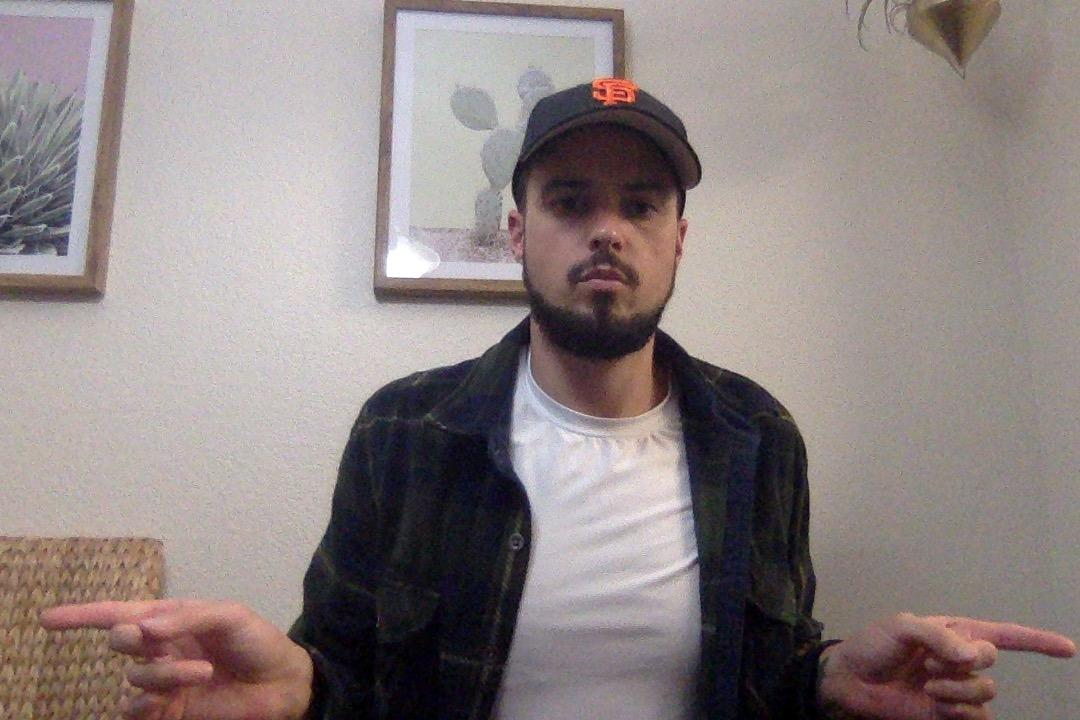Point-Left: (30, 578, 308, 720)
Point-Right: (818, 600, 1080, 720)
